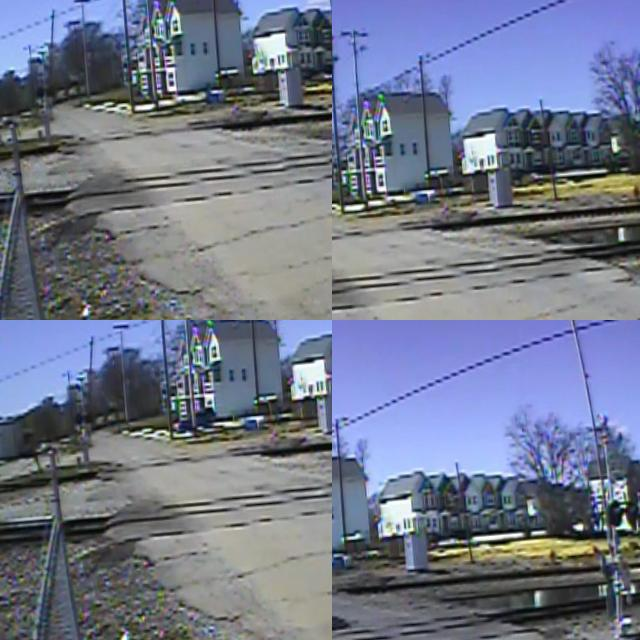barrier: (36, 0, 68, 84), (80, 330, 104, 408), (332, 89, 350, 170)
car: (332, 540, 376, 640), (170, 397, 221, 435), (332, 188, 342, 215)
rails: (0, 445, 332, 562), (0, 115, 332, 230), (0, 72, 332, 176), (0, 393, 332, 495), (332, 170, 640, 277), (332, 212, 640, 312), (332, 539, 640, 639), (332, 581, 640, 640)
traffic-signal: (595, 495, 640, 640), (29, 75, 69, 152), (70, 407, 106, 479), (332, 534, 353, 633), (332, 180, 348, 248)
